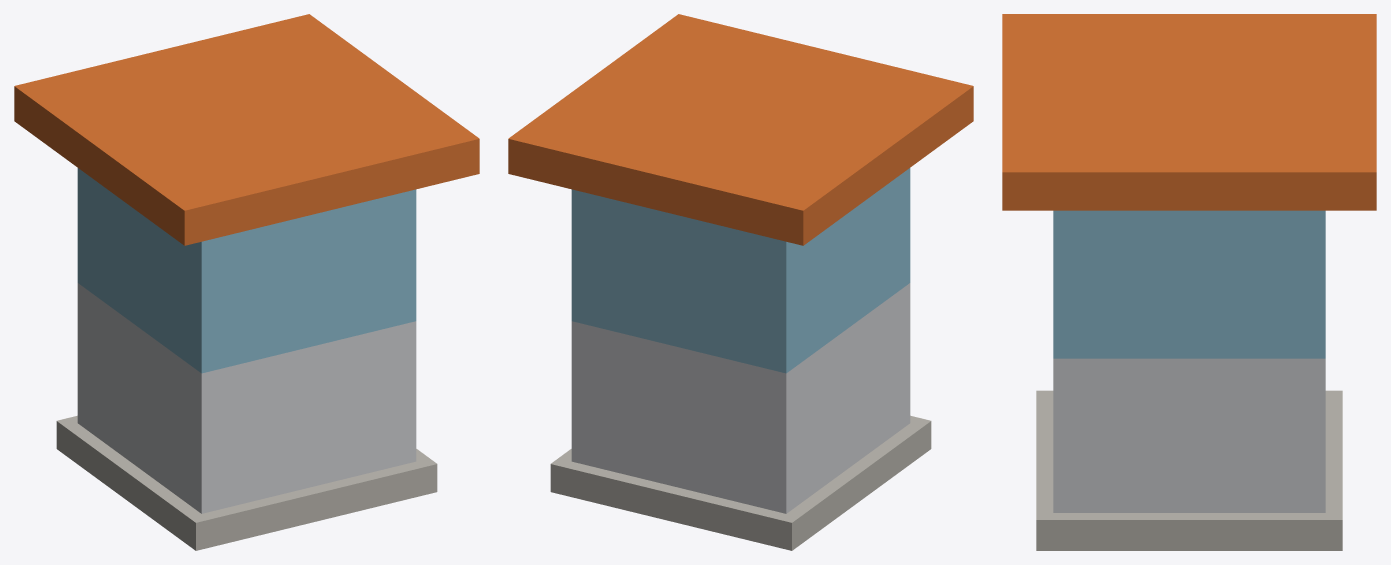
Rendered from gate_booth.glb.
3 views of the same model, side by side, from view 1: azimuth 30°, elevation 25°; view 2: azimuth 150°, elevation 25°; view 3: azimuth 270°, elevation 25° (orthographic). The views are drawn at different scales.
Parts seen in each view (by area): view 1: gate_booth; view 2: gate_booth; view 3: gate_booth.
Part boxes in pixels (left/top/right/bottom): gate_booth: left=14, top=14, right=479, bottom=550; gate_booth: left=508, top=14, right=973, bottom=550; gate_booth: left=1002, top=14, right=1376, bottom=550.
Size of the model in its own units: 2.2 by 2.55 by 2.2.
